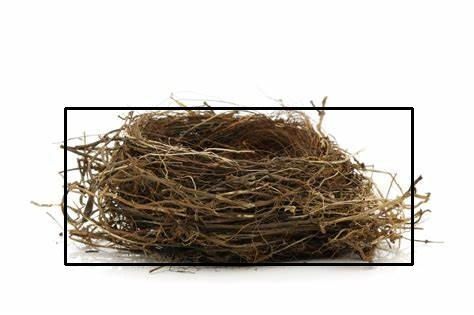bird-nest: (65, 108, 412, 264)
